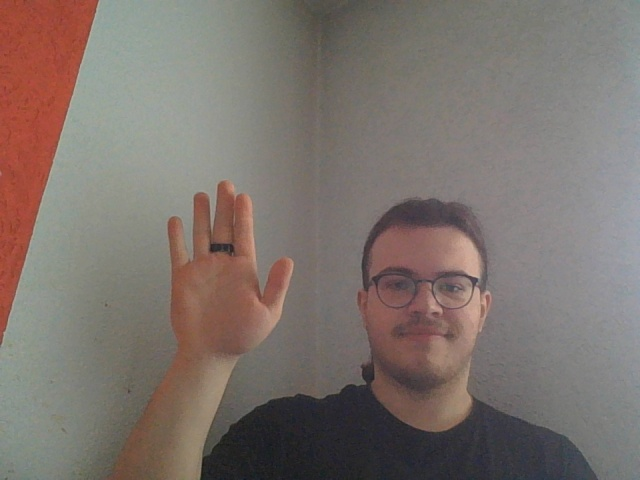Hello: (162, 178, 296, 369)
